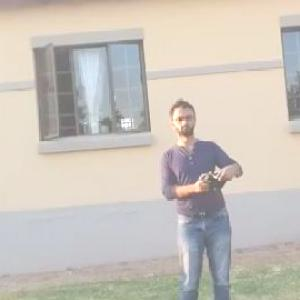follow: (150, 89, 248, 299)
